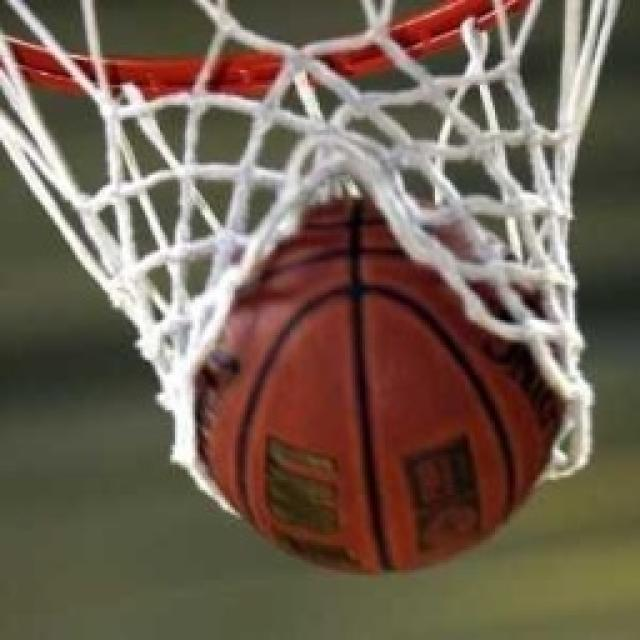rim: (170, 188, 569, 576)
